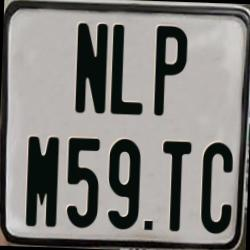5: (66, 136, 100, 228)
9: (107, 138, 141, 234)
C: (200, 140, 234, 236)
L: (110, 24, 148, 118)
M: (25, 135, 60, 229)
N: (74, 22, 108, 116)
P: (155, 24, 188, 116)
T: (160, 141, 192, 232)
